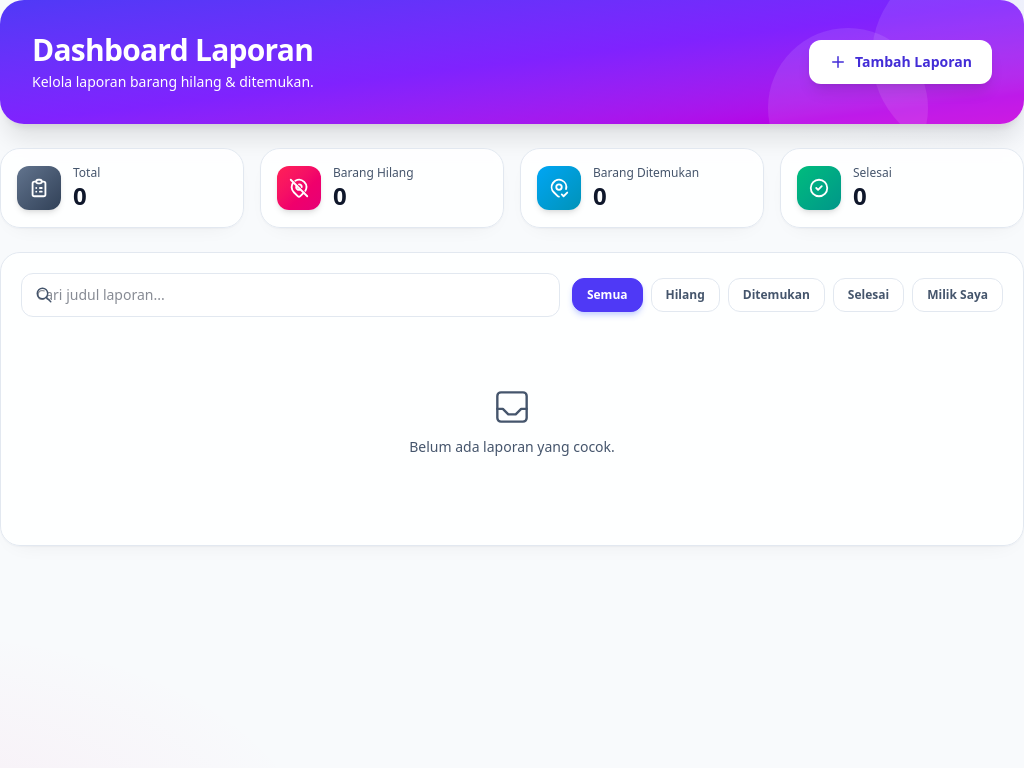
Test: HomePage › klik Tambah Laporan membuka AddModal
This screenshot has width=1024, height=768.
Click the button "Tambah Laporan" at (900, 62), box [809, 40, 992, 84]
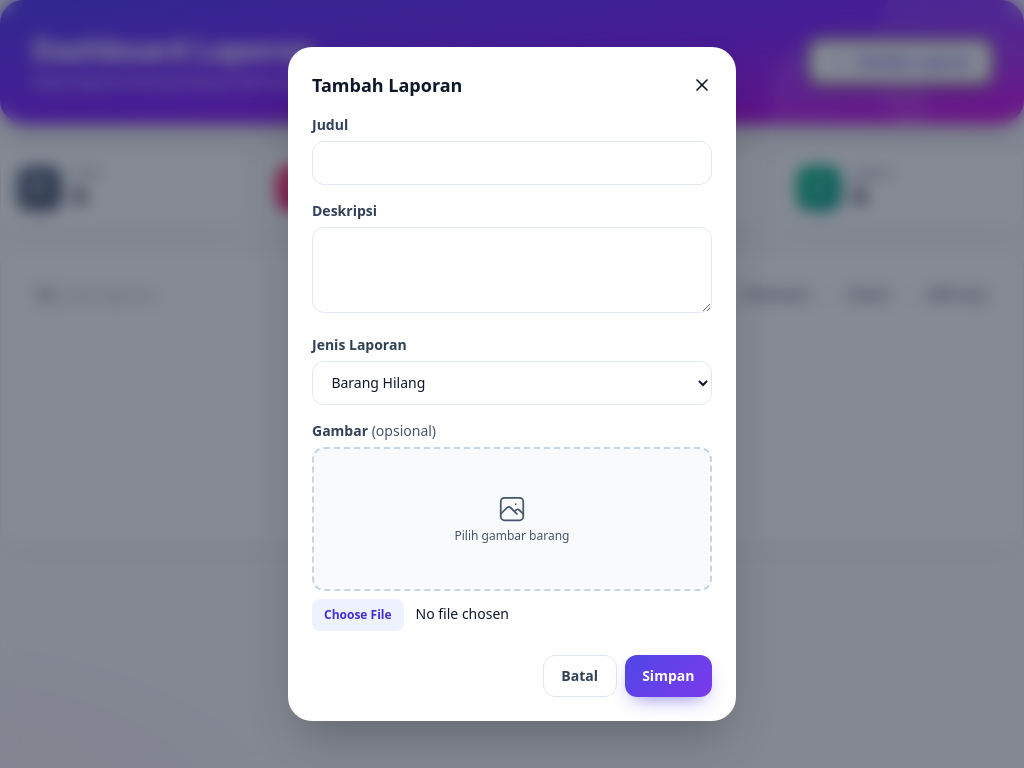
Check: the form with test id "add-form" is shown, box [312, 115, 712, 697]
Click the button "Batal" at (580, 676), box [543, 655, 617, 697]
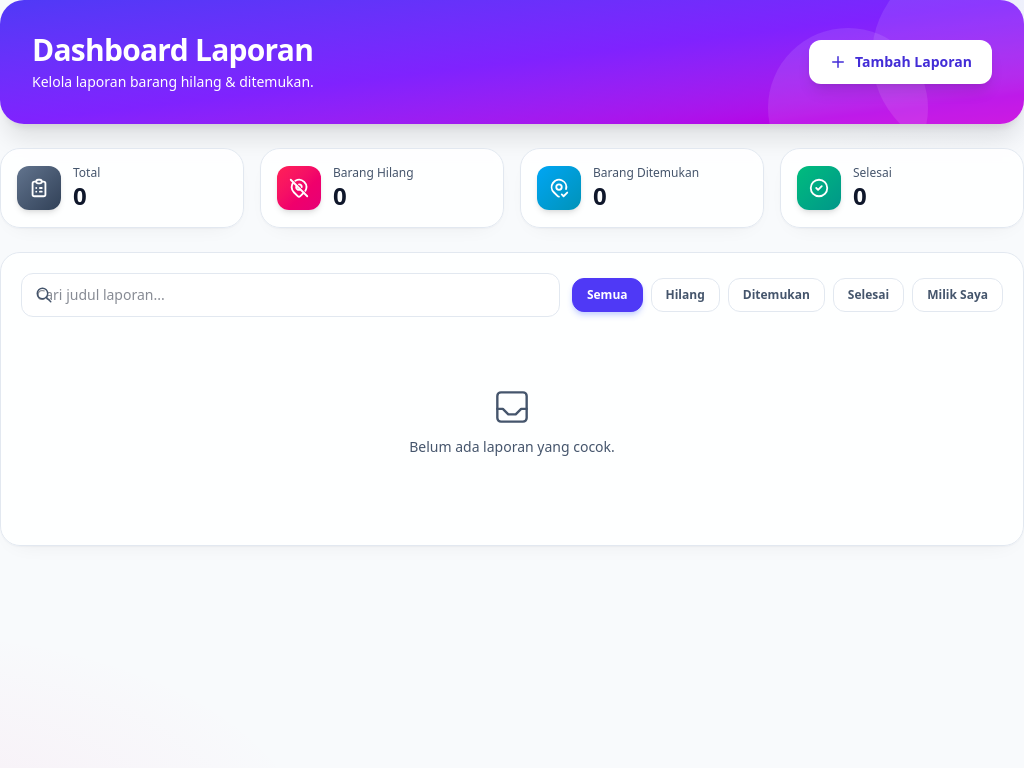
Check: the form with test id "add-form" is gone
